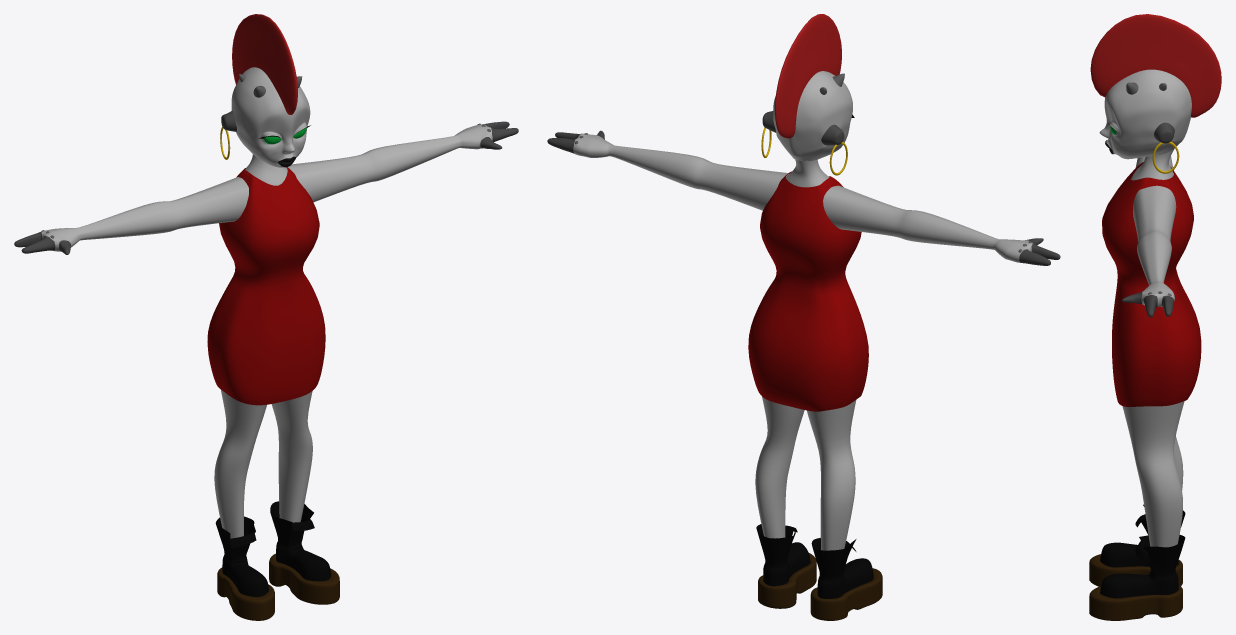
Rendered from Punk Model.fbx.
3 views of the same model, side by side, from view 1: azimuth 30°, elevation 25°; view 2: azimuth 150°, elevation 25°; view 3: azimuth 270°, elevation 25° (orthographic).
Visible parts, largest first — view 1: polySurface7; view 2: polySurface7; view 3: polySurface7.
Part boxes in pixels (x1,y1,x2,y2): polySurface7: (14,14,518,620); polySurface7: (547,14,1060,620); polySurface7: (1089,14,1221,620).
Bounding box in the file's own units: 87.53 × 97.07 × 19.97.
